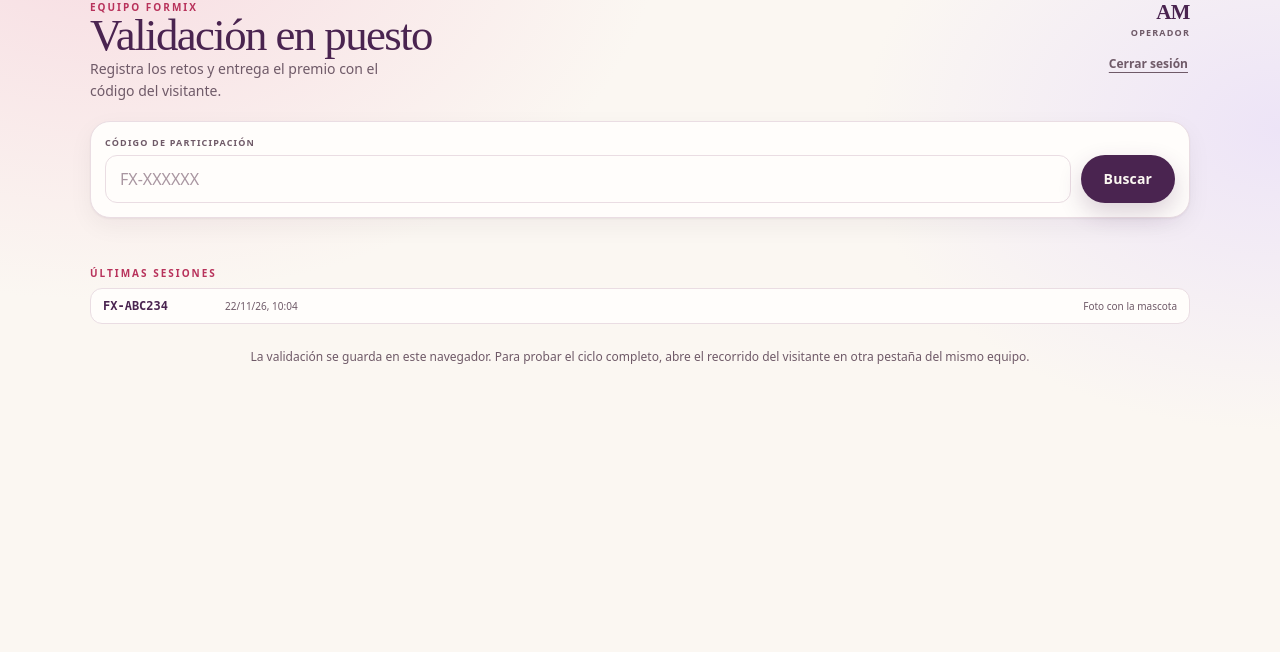
operator reports the locked prize after a late second win
Type "FX-ABC234" into the field labelled "Código de participación" at (588,179), box [105,155,1071,203]
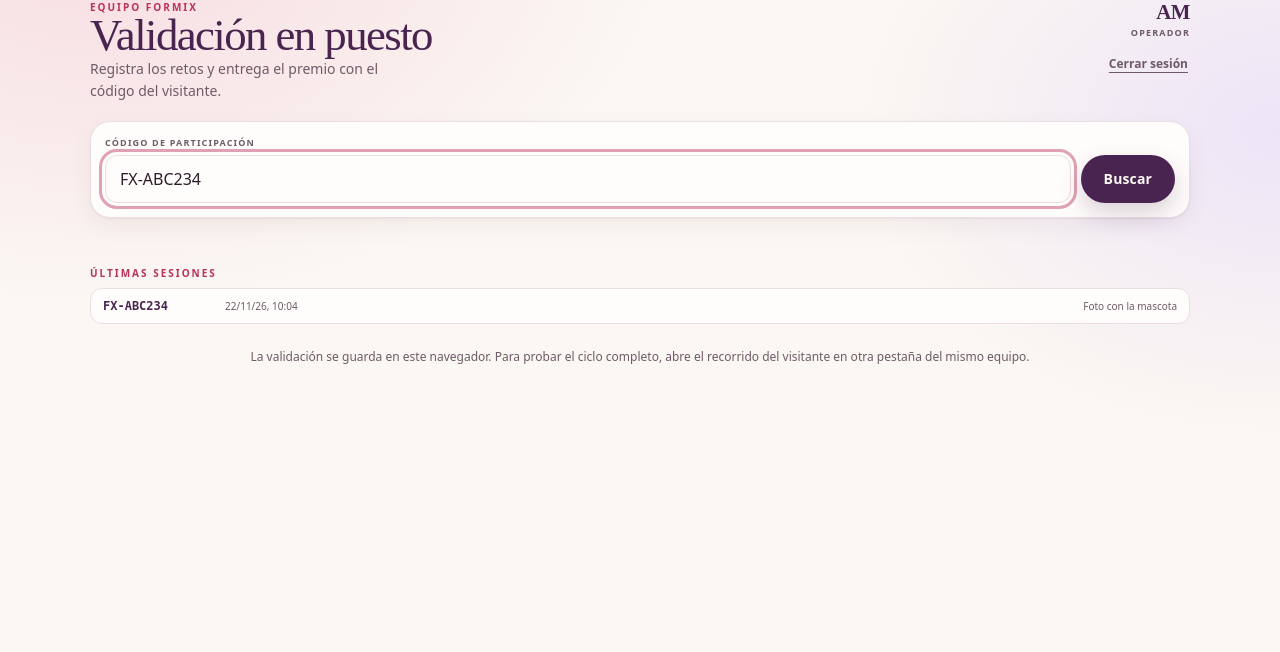
Click the button "Buscar" at (1128,179), box [1081,155,1175,203]
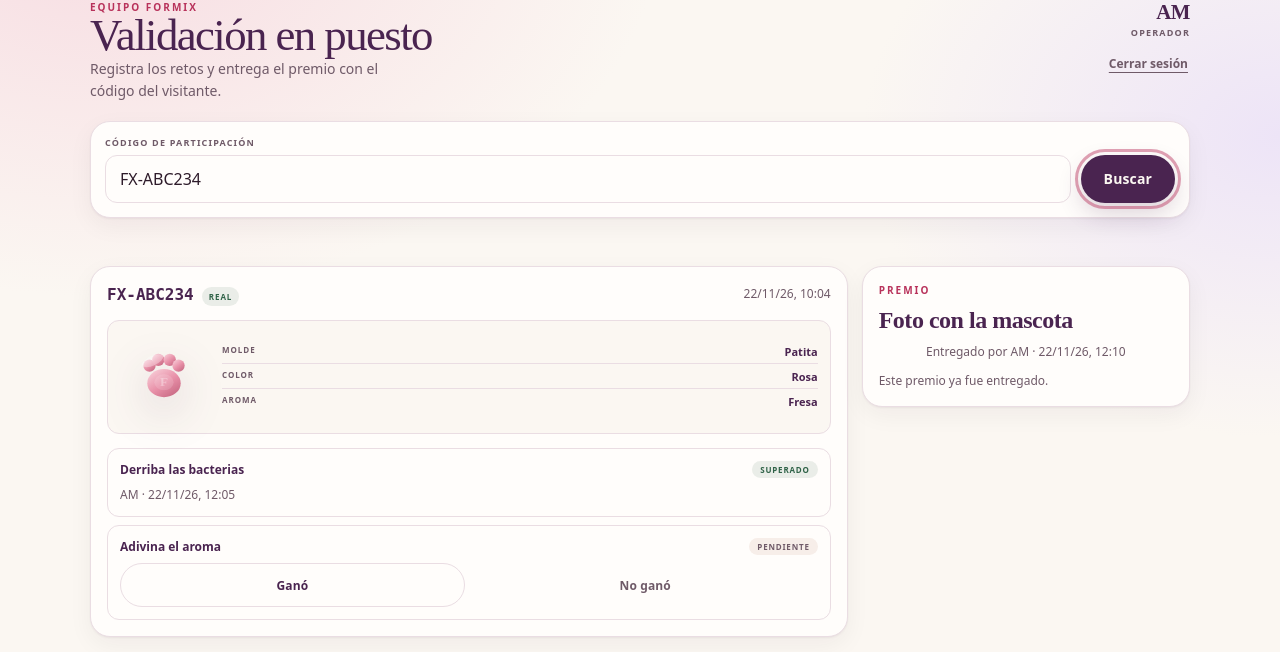
Click the button with aria-label "Ganó en Adivina el aroma" at (292,585), box [120,563,465,607]
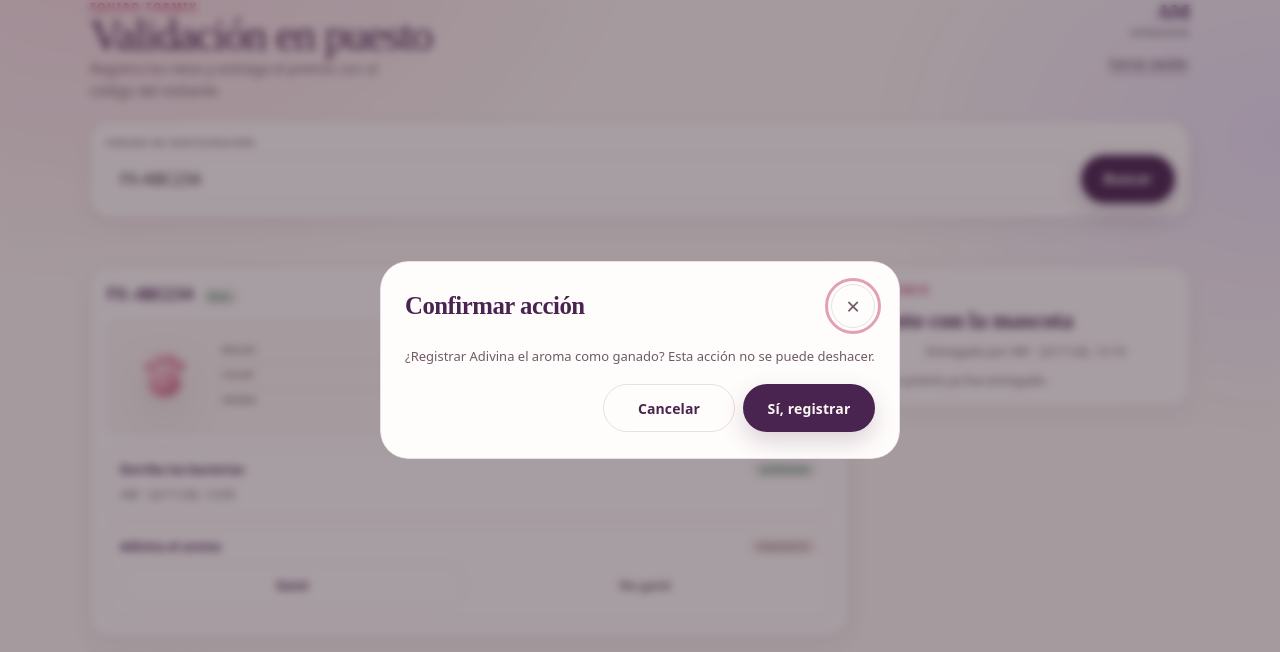
Click the button "Sí, registrar" at (809,408), box [743,384,875,432]
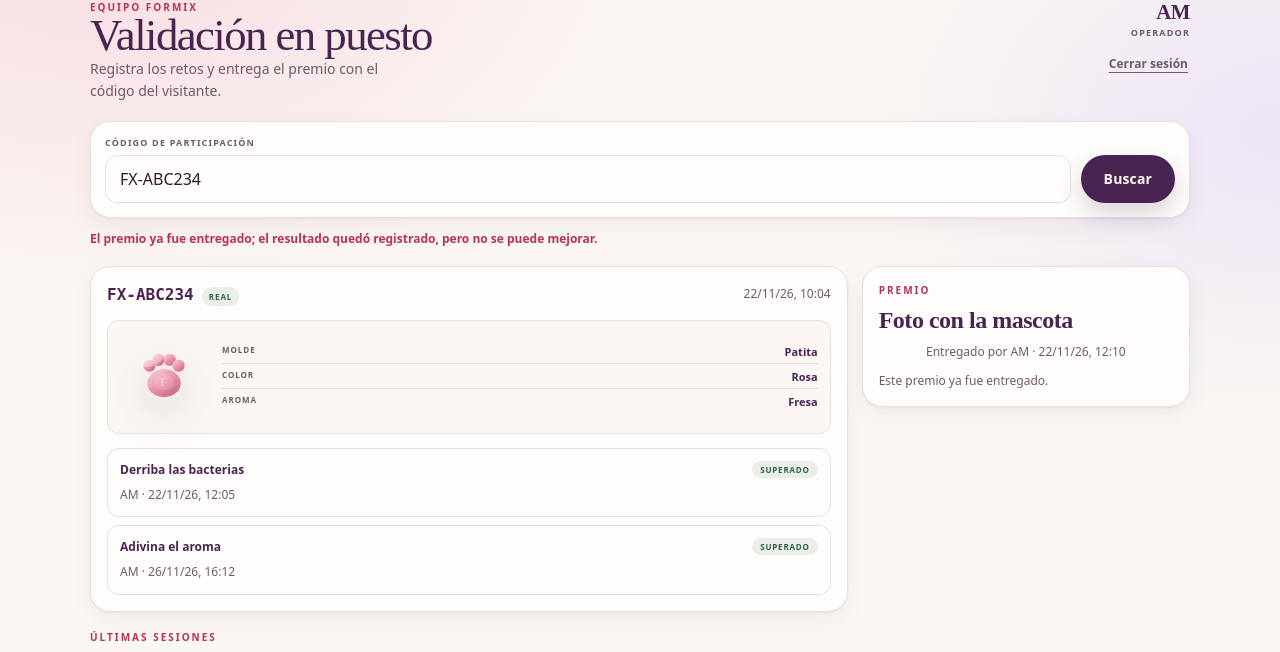
Now the text "El premio ya fue entregado; el resultado quedó registrado, pero no se puede mejorar." is shown, box [90,230,598,247]
